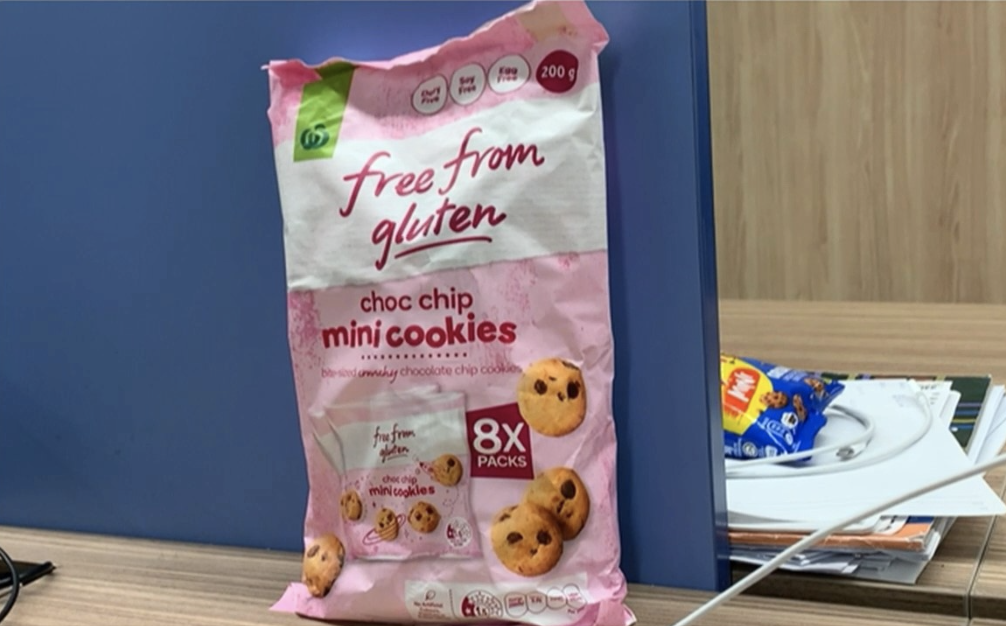cookies_200g-299g: (297, 81, 587, 602)
